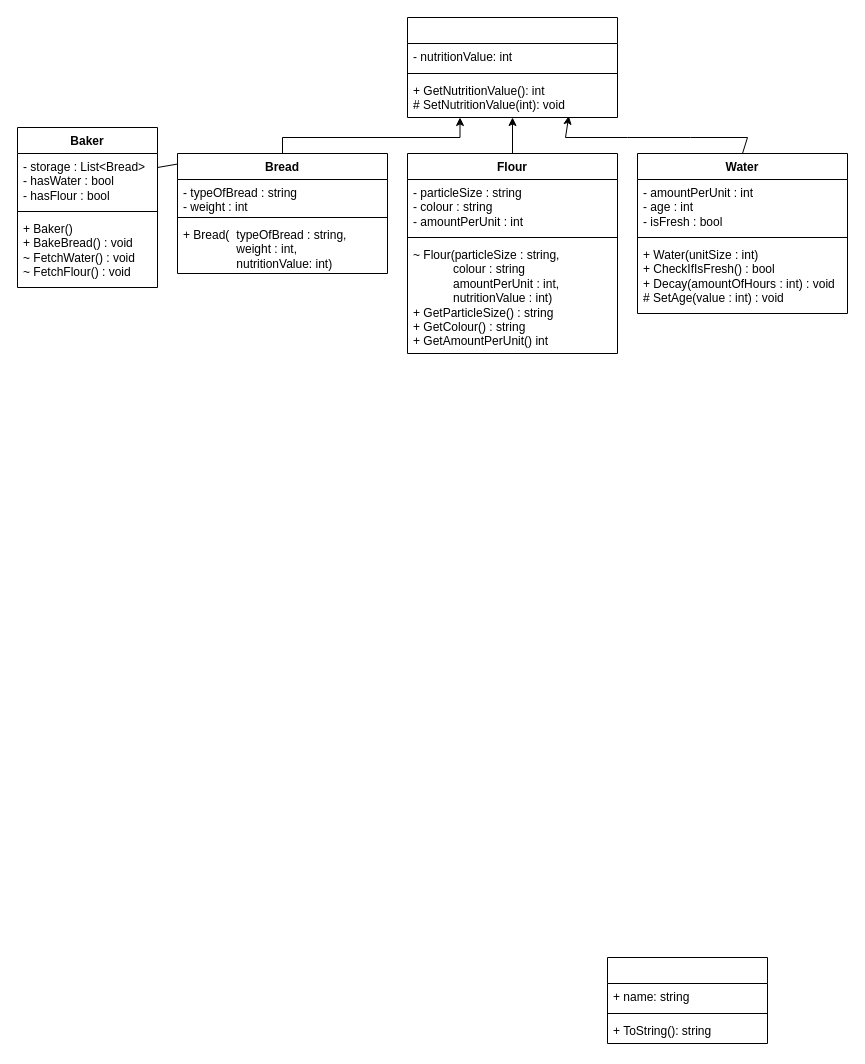
The diagram is 865 pixels wide and 1064 high, and some of its shapes have lost their labels. The box of each missing label's shape, as (x1, y1, x2, y2) in pixels:
Food: (406, 16, 618, 118)
Ware: (606, 956, 768, 1044)
